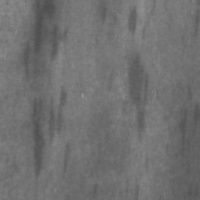inclusion: (18, 80, 70, 189), (20, 0, 67, 84), (116, 46, 154, 145), (170, 80, 200, 155), (123, 3, 144, 39), (57, 138, 75, 180), (189, 9, 200, 37)
